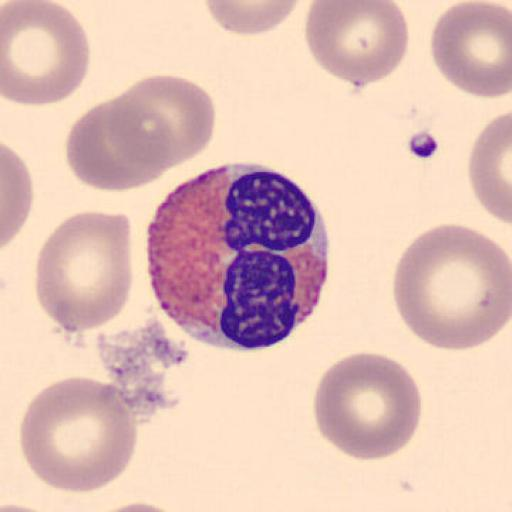RBC: (79, 73, 217, 192), (392, 221, 511, 353), (18, 374, 138, 494), (311, 350, 424, 461), (34, 209, 134, 334), (65, 91, 173, 193), (115, 73, 218, 171), (1, 0, 91, 107), (304, 0, 410, 89), (429, 0, 512, 100), (468, 108, 512, 228), (203, 0, 305, 37), (2, 141, 34, 250), (82, 500, 189, 512), (0, 502, 54, 512)
WBC: (142, 158, 332, 353)
